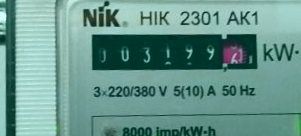0: (94, 42, 107, 64), (117, 41, 130, 62)
1: (161, 39, 172, 59)
3: (139, 43, 151, 63)
6: (229, 48, 239, 65)
9: (182, 39, 194, 60), (203, 40, 215, 60)
screen: (83, 21, 267, 83)
